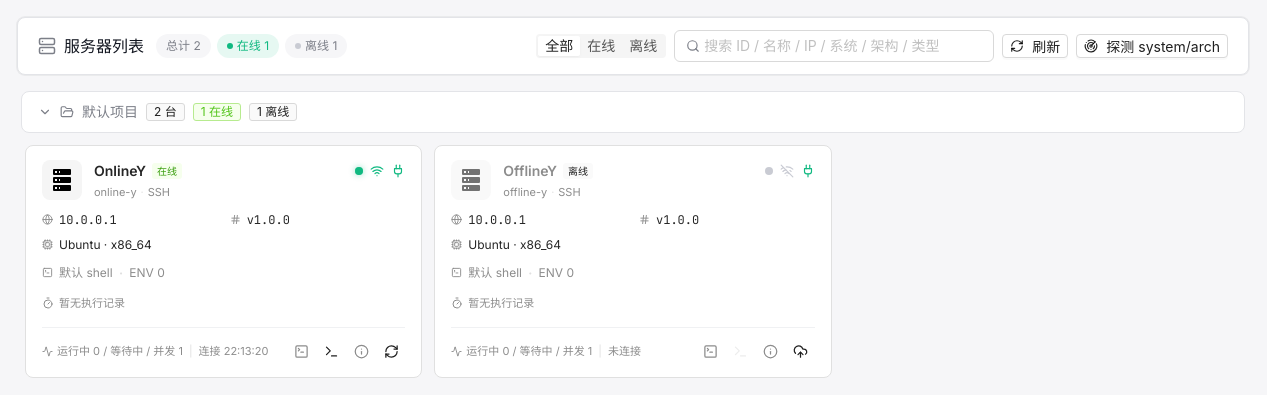
Test case: <ServersPage /> › 状态过滤：选择"离线"仅展示离线 agent
Expected: the text "服务器列表" is shown, [64, 34, 144, 58]
Click the text "离线" in the row of "全部".
click(643, 46)  # box [629, 37, 657, 54]
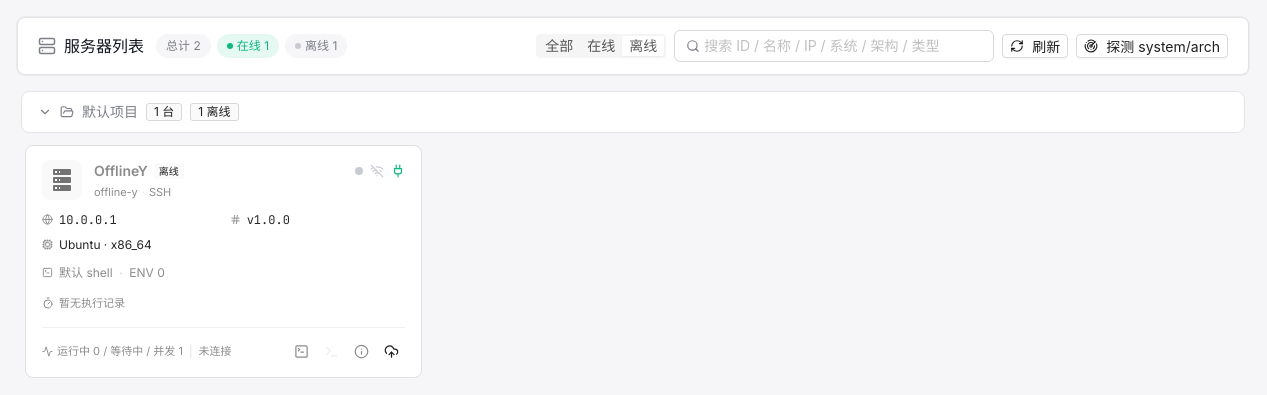
Expected: the text "OfflineY" is shown, [94, 160, 148, 181]
Expected: the text "OnlineY" is gone
